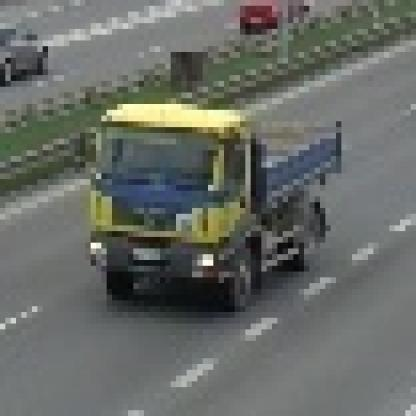truck: (70, 88, 337, 307)
